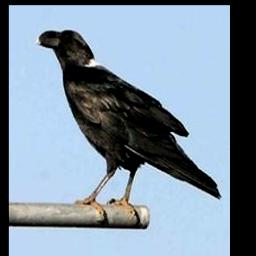Crow: (36, 26, 221, 225)
